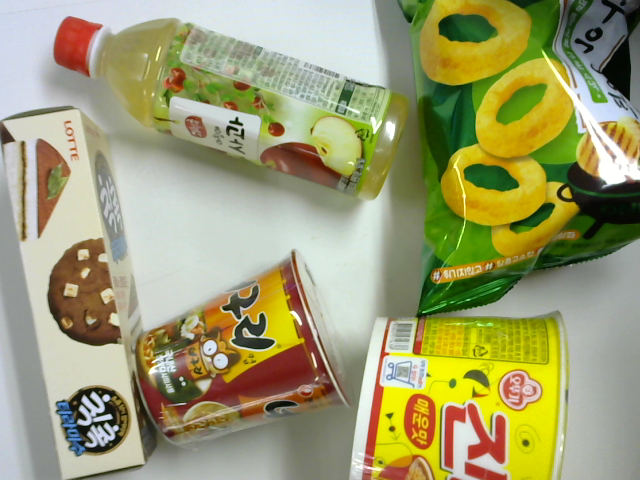Chicchok_Tiramisu: (1, 100, 154, 476)
Grilled_Onions: (387, 1, 637, 330)
Jinlamyeon_Hot_Taste_Large_Cup: (347, 301, 573, 480)
Morning_Apple_500ml: (37, 10, 414, 211)
Raccoon: (126, 250, 358, 453)
